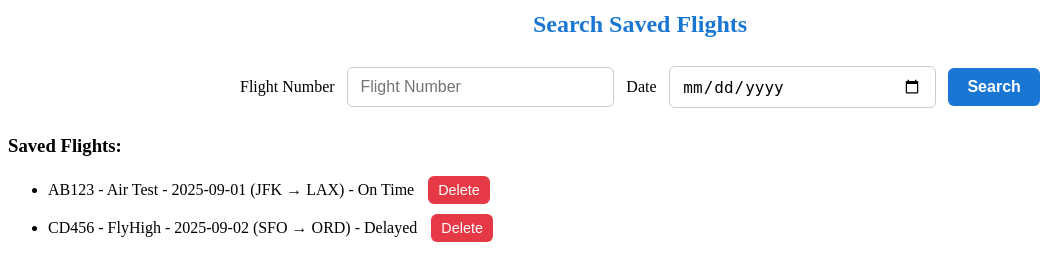
Test: <FlightSearch /> › filters flights by date
The image size is (1057, 259).
Type "2025-09-01" into the date field labelled "Date" at {"x": 802, "y": 87}, box [669,66,936,108]
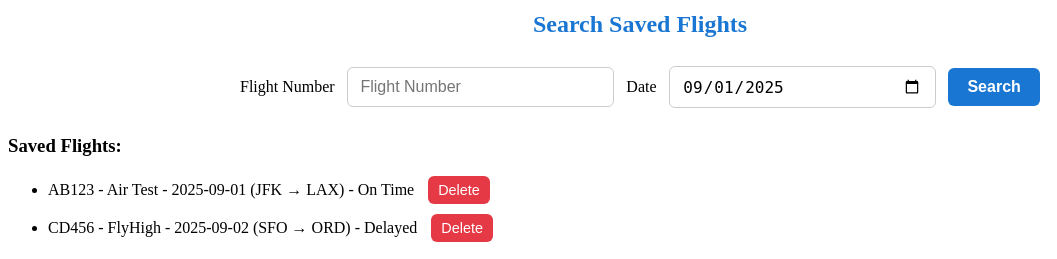
Click the button "Search" at {"x": 994, "y": 87}, box [948,68,1040,106]
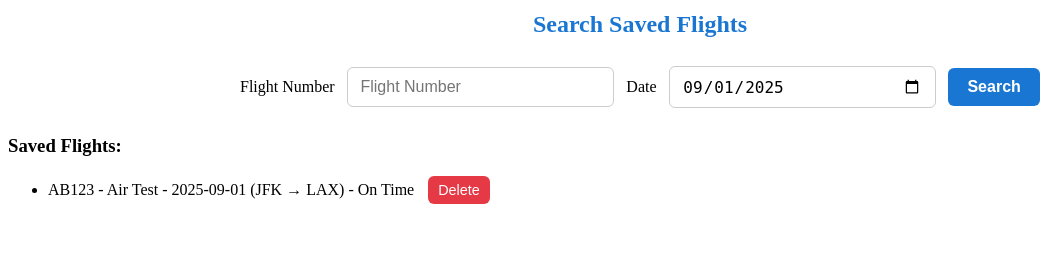
Expected: the list item "AB123 - Air Test - 2025-09-01 (JFK → LAX) - On Time Delete" is shown, [48,176,490,204]
Expected: the list item "CD456 - FlyHigh" is gone
